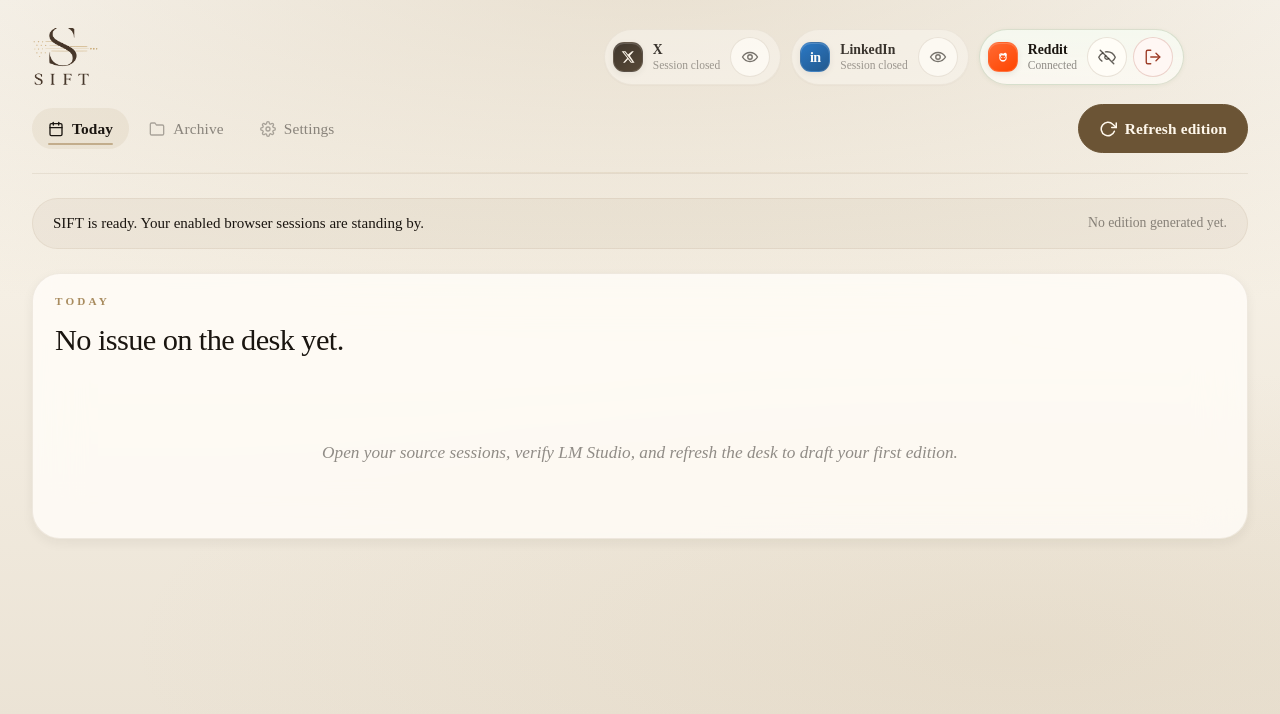
App › renders Reddit session controls and settings when Reddit is available
Expected: the text "SIFT is ready." is shown, [53,215,424,231]
Expected: the text "Reddit" is shown, [1028,42,1068,57]
Click the button "Settings" at [297, 129], box [244,108,350,149]
(page scrolled)
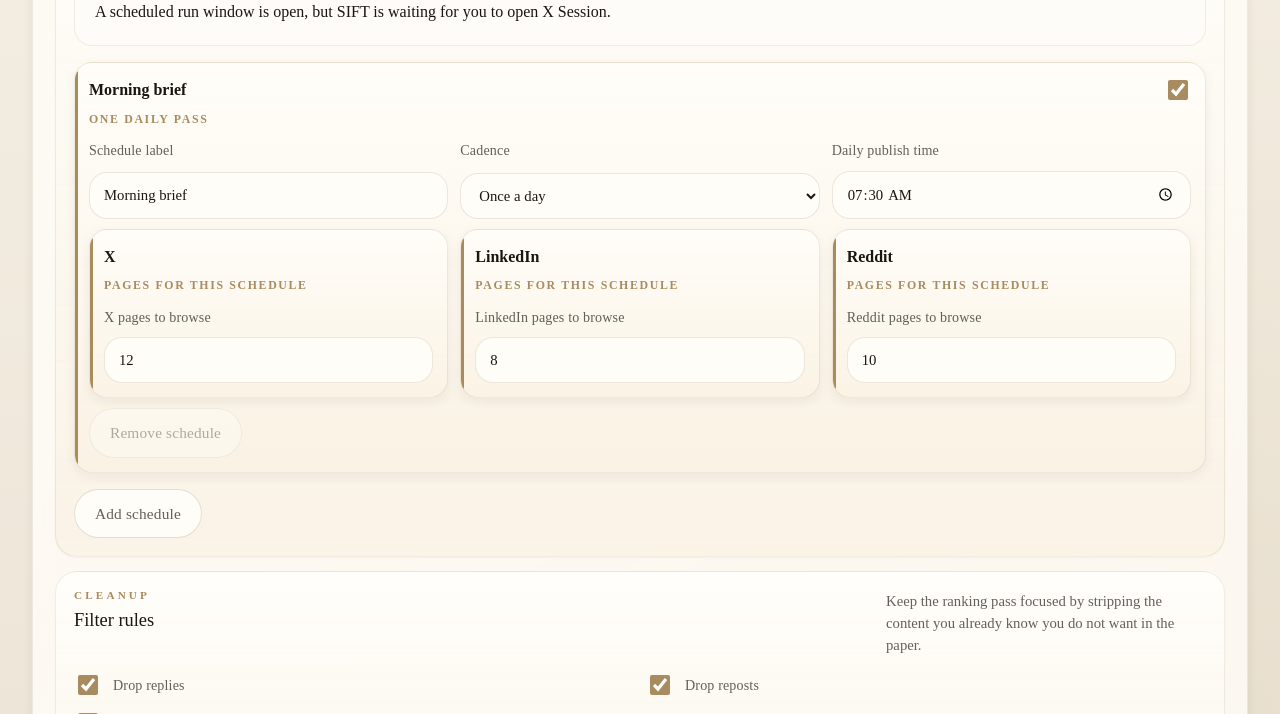
Expected: the number field labelled "Reddit pages to browse" is shown, [847,337,1176,383]
